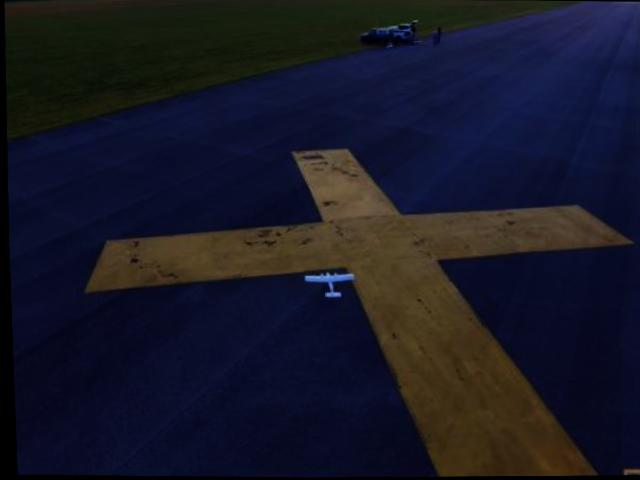uav: (299, 271, 353, 296)
